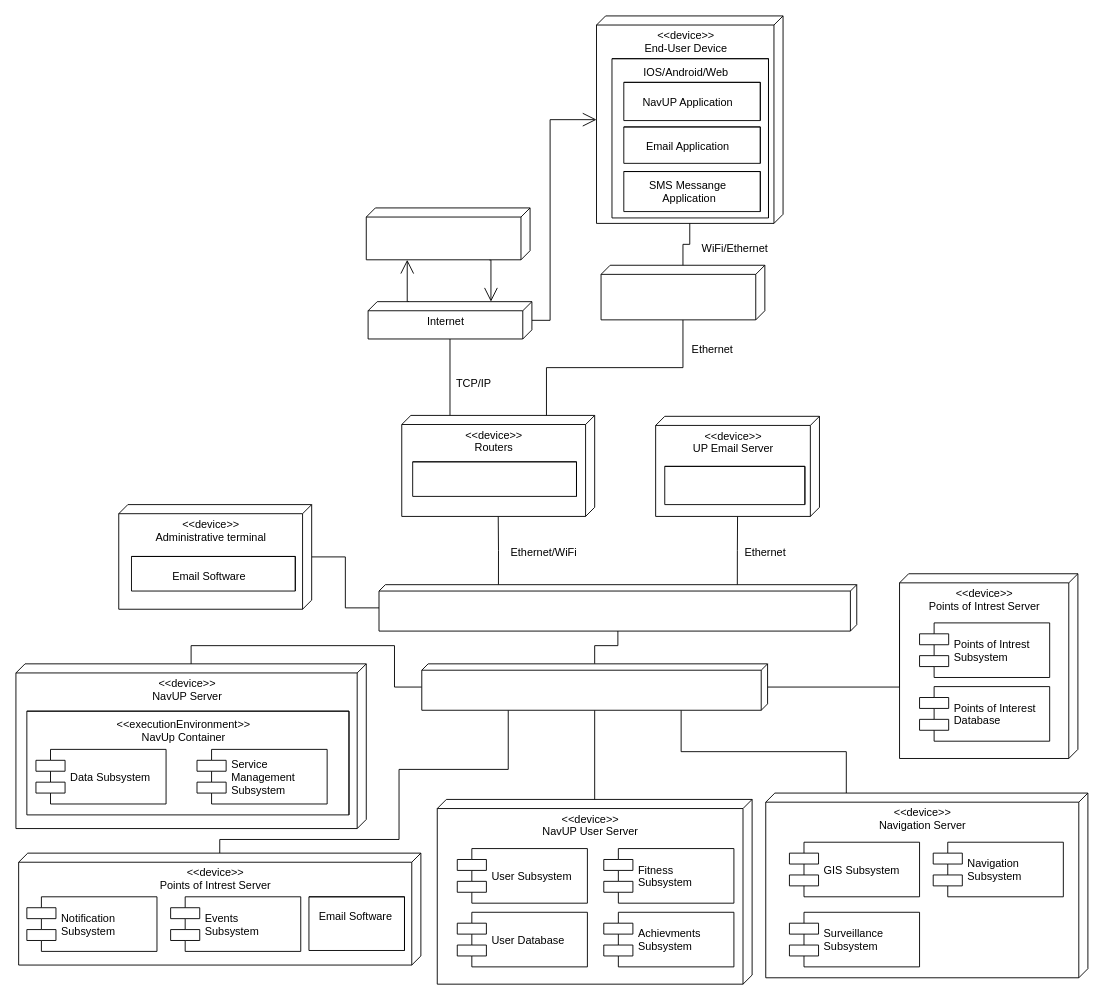
This 1104x1000 diagram has some shape labels left out. The centre of each missing label's shape, as x and y in pixels:
<<device>> Email to SMS Gateway: point 447,233
<<device>> NavUP Network: point 594,686
<<device>> UP Network: point 617,607
<<device>> WiFi Connection Points: point 682,292
Firewall: point 494,478
Oracle: point 734,485
